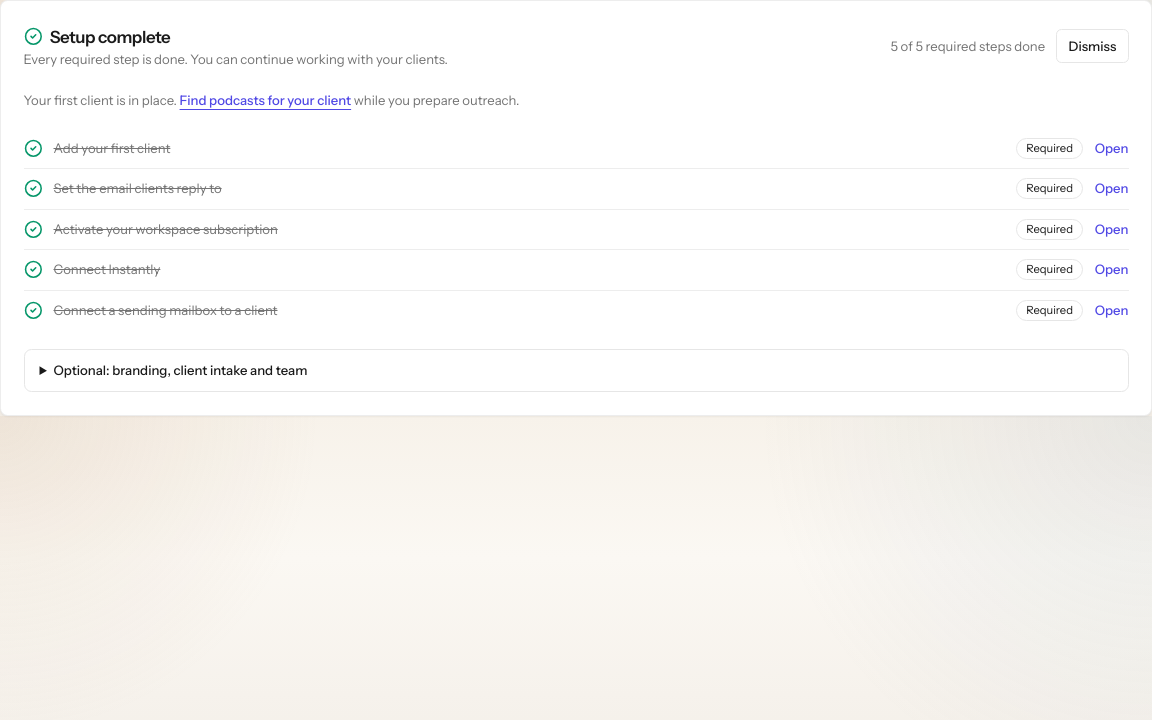
Test: SetupChecklist › lets an agency defer and restore optional steps without changing completion
Check: the text "Setup complete" is shown, box [24,26,170,46]
Click the heading "Optional: branding, client intake and team".
click(180, 370)  # box [53,362,307,378]
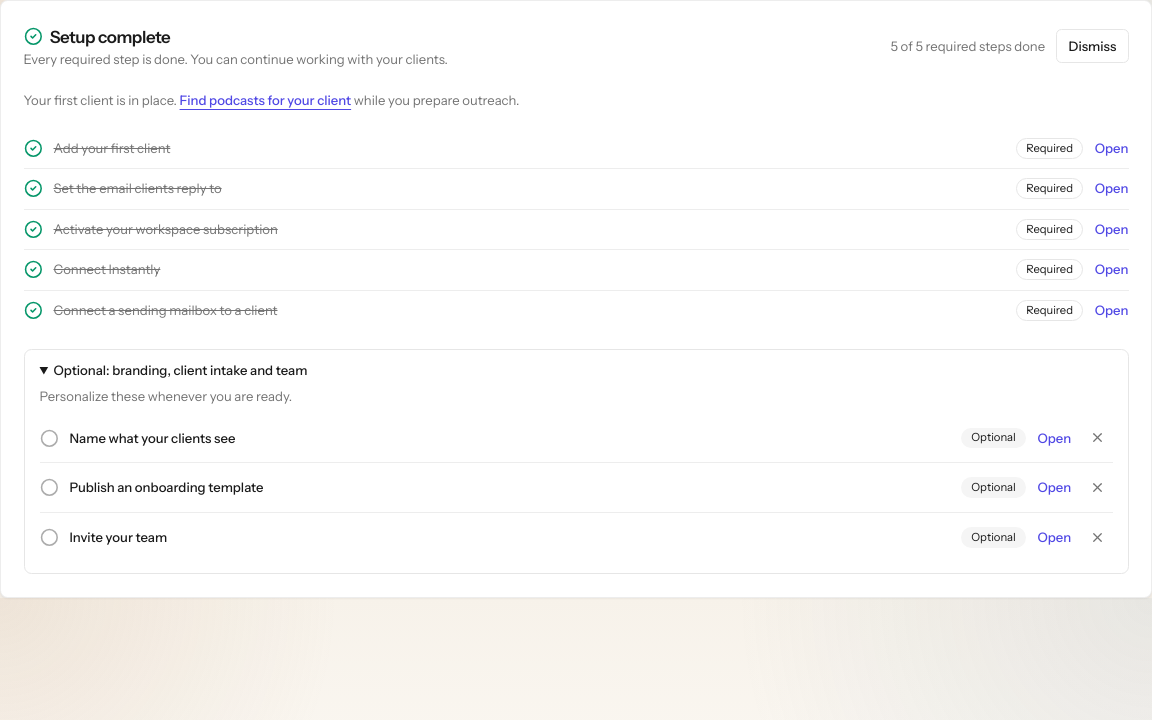
Click the button named "Dismiss Invite your team".
click(1098, 537)  # box [1082,522,1112,552]
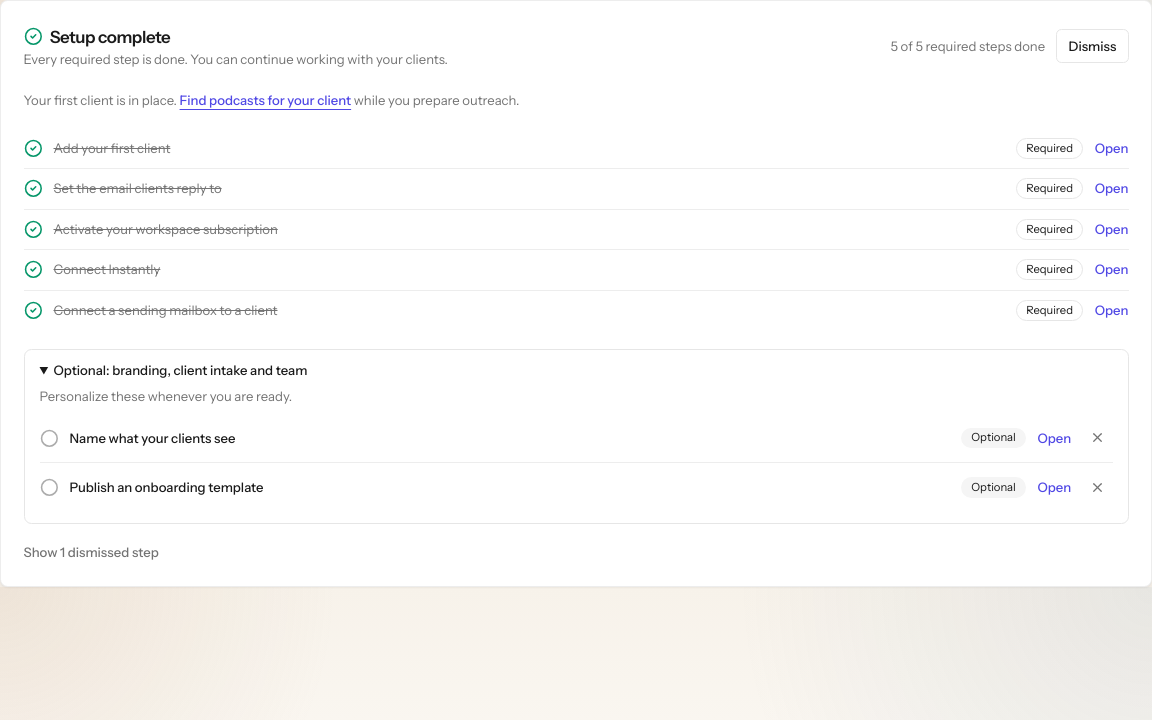
Check: the text "5 of 5 required steps done" is shown, box [890,37,1045,55]
Check: the text "Invite your team" is gone
Click the button "Show 1 dismissed step".
click(91, 552)  # box [24,543,159,562]
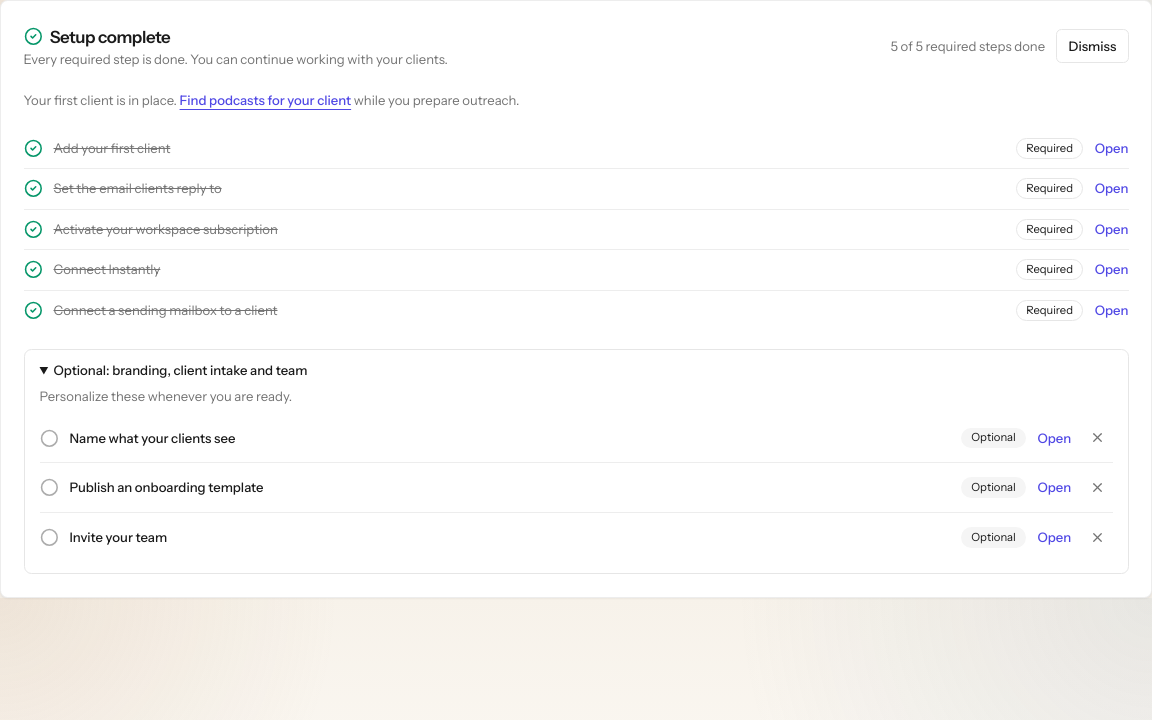
Check: the text "Invite your team" is shown, box [70,529,167,545]
